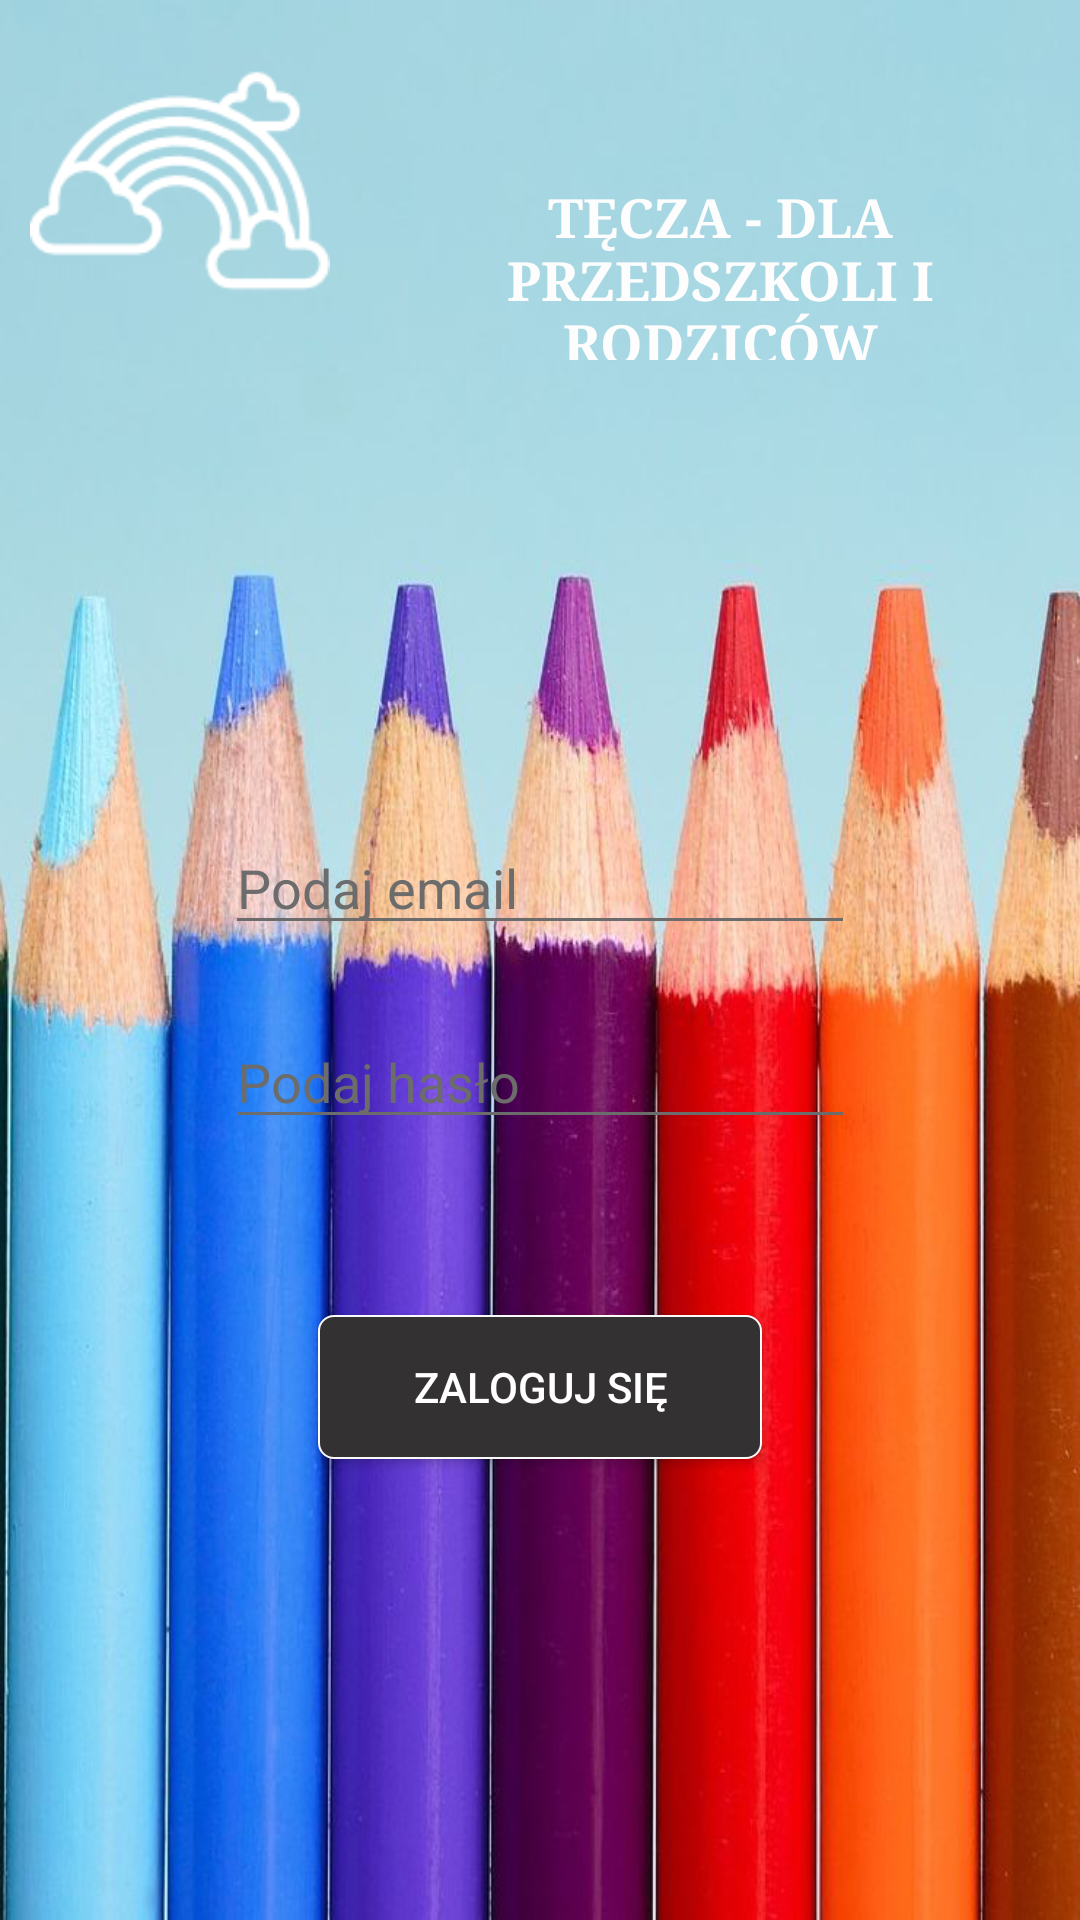

Named icons in this screenshot (1080px x 1920px) and their bounding boxes, [x1, y1, x2, y2]:
rainbow: [30, 72, 330, 290]
